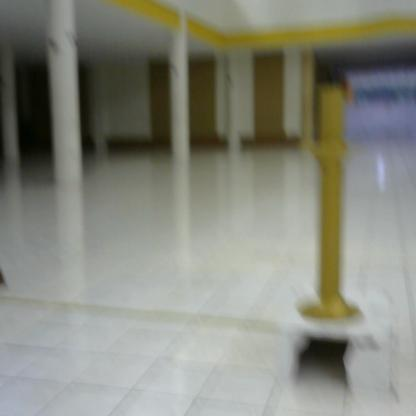pole: (295, 78, 372, 330)
